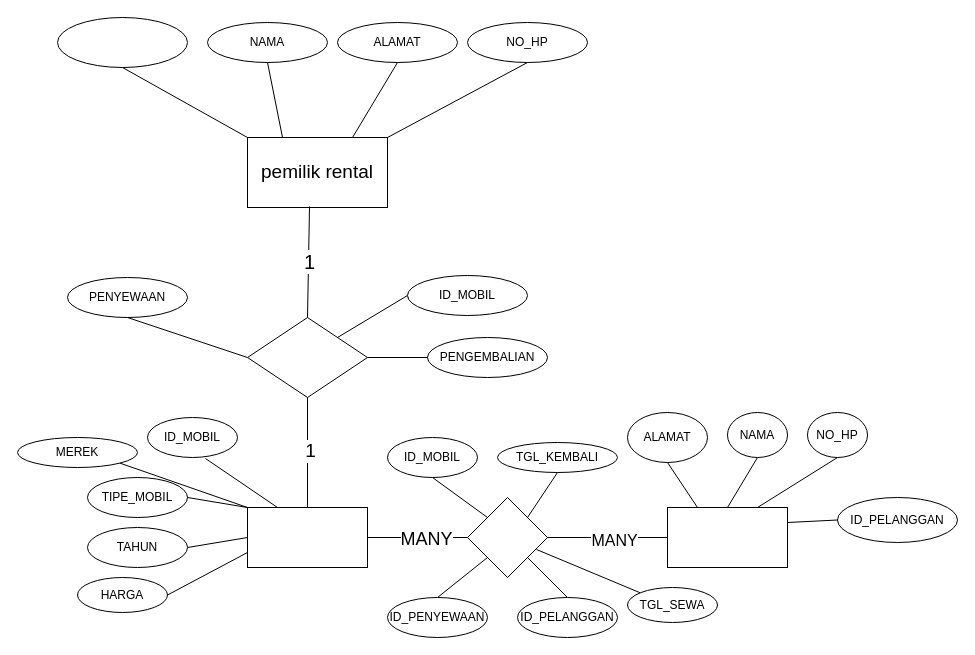
Image size: 975x655. Some labels were removed from this diagram. The centre of each missing label's shape, as x and y in pixels:
"ID_PEMILIK" belongs at point (122, 42).
"MENGELOLA" belongs at point (307, 357).
"MENYEWA" belongs at point (507, 537).
"MOBIL" belongs at point (307, 537).
"PELANGGAN" belongs at point (727, 537).
